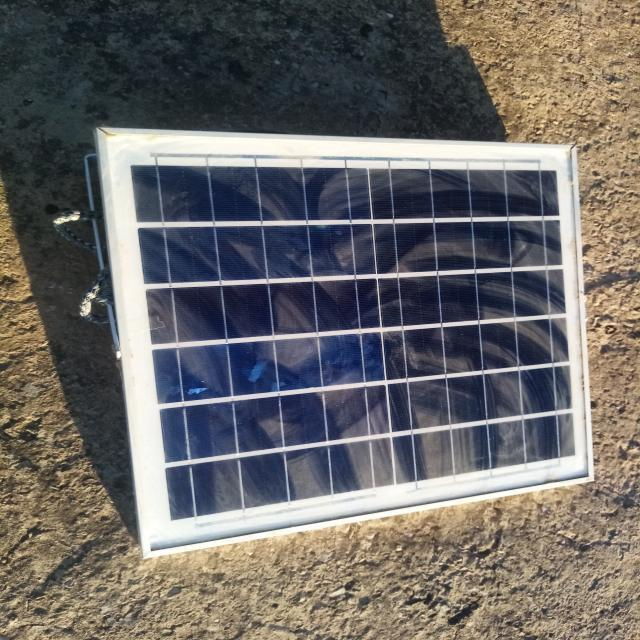faulty: (107, 132, 591, 554)
